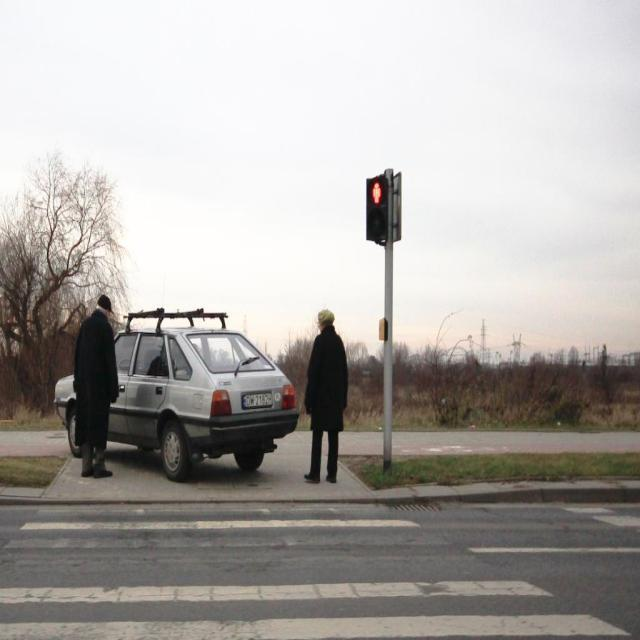traffic light: (364, 173, 389, 243)
